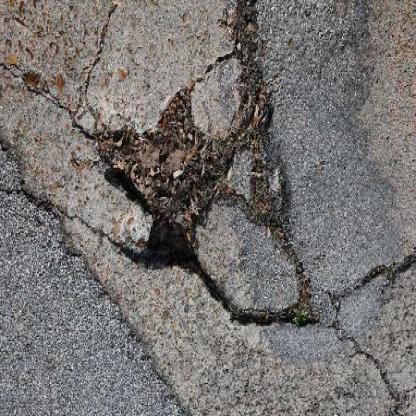pothole: (94, 44, 321, 334)
